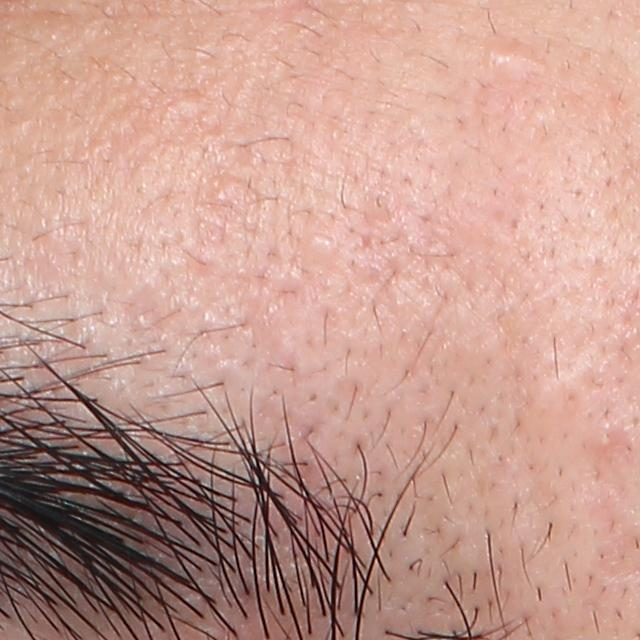comedo: (487, 46, 528, 75), (167, 90, 201, 123)
